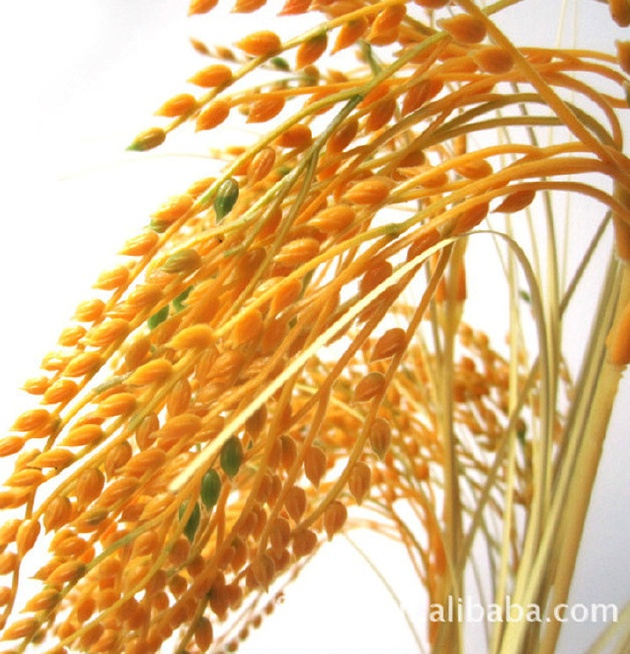rice: (9, 8, 538, 627)
